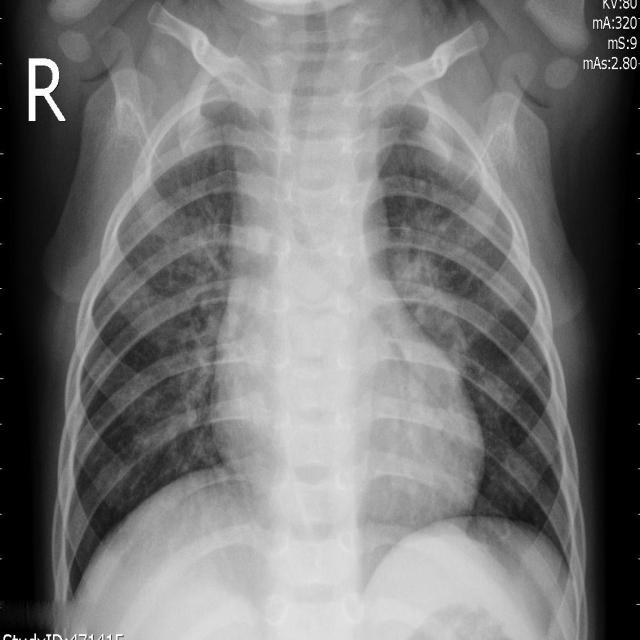low-pneumonia: (377, 206, 478, 372), (174, 213, 234, 415)
